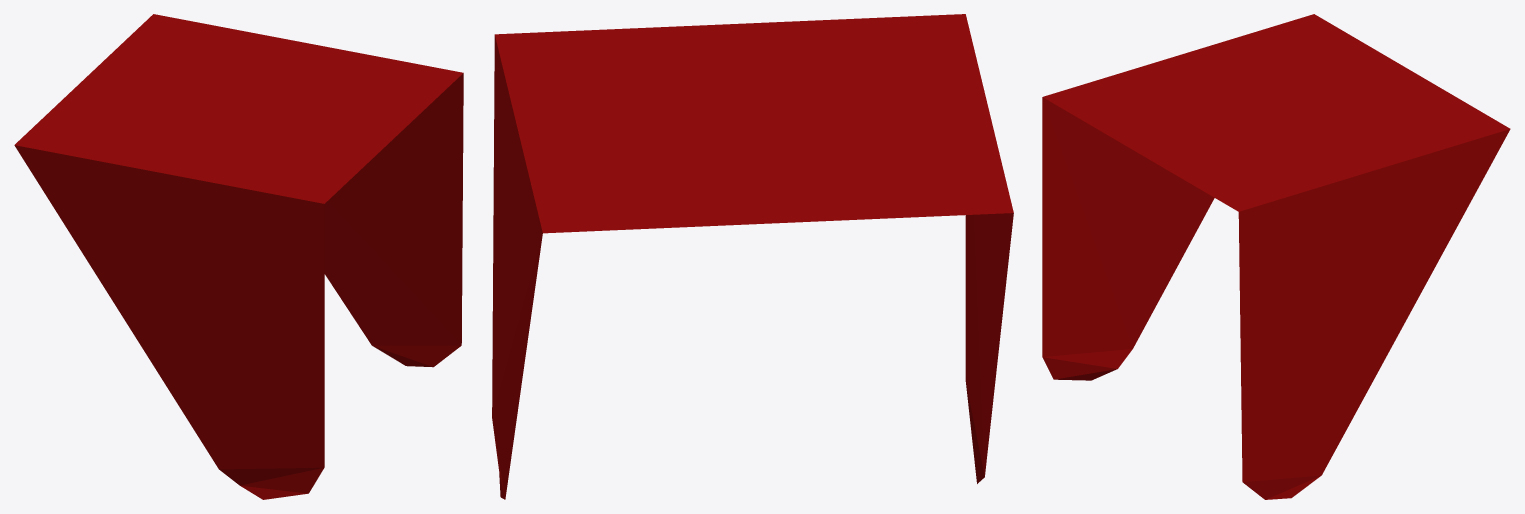
Rendered from original-11.obj.
3 views of the same model, side by side, from view 1: azimuth 30°, elevation 25°; view 2: azimuth 150°, elevation 25°; view 3: azimuth 270°, elevation 25° (orthographic). The views are drawn at different scales.
Parts seen in each view (by area): view 1: mesh9/mesh9-geometry#mesh9-geometry; view 2: mesh9/mesh9-geometry#mesh9-geometry; view 3: mesh9/mesh9-geometry#mesh9-geometry.
Boxes of the visible parts, x1,y1,x2,y2 form: mesh9/mesh9-geometry#mesh9-geometry: (14,14,463,499); mesh9/mesh9-geometry#mesh9-geometry: (492,14,1013,499); mesh9/mesh9-geometry#mesh9-geometry: (1042,14,1510,499).
Size of the model in its own units: 0.0772 by 0.0548 by 0.0772.
